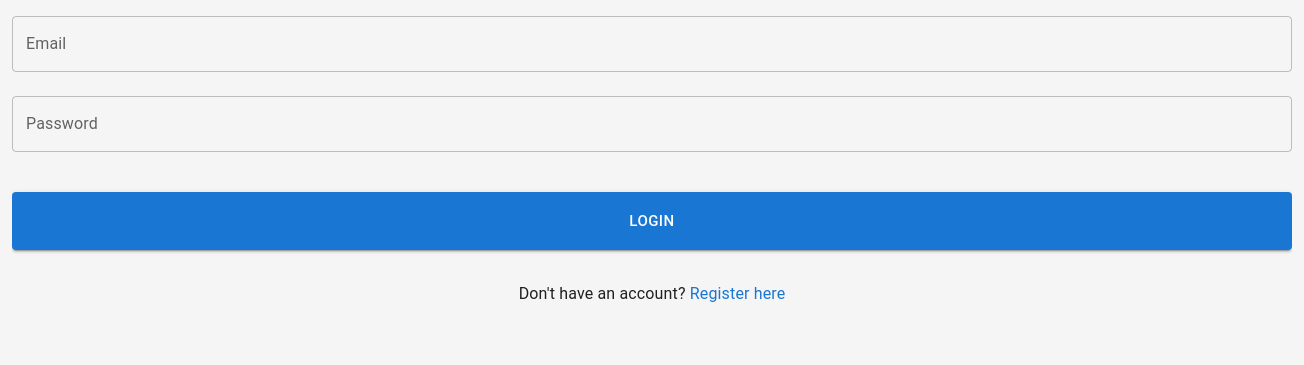
it: LoginForm › Wrong input validations › Empty field validations
This screenshot has width=1304, height=365.
Click the button "Login" at (652, 221), box [12,192,1292,250]
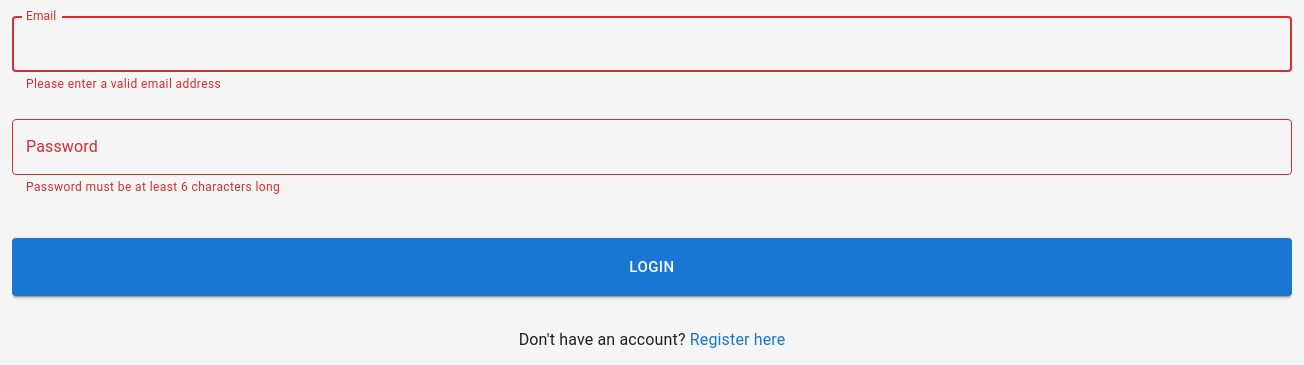
expect the text "Please enter a valid email address" is shown: met, box [26,77,221,91]
expect the text "Password must be at least 6 characters long" is shown: met, box [26,180,280,194]
